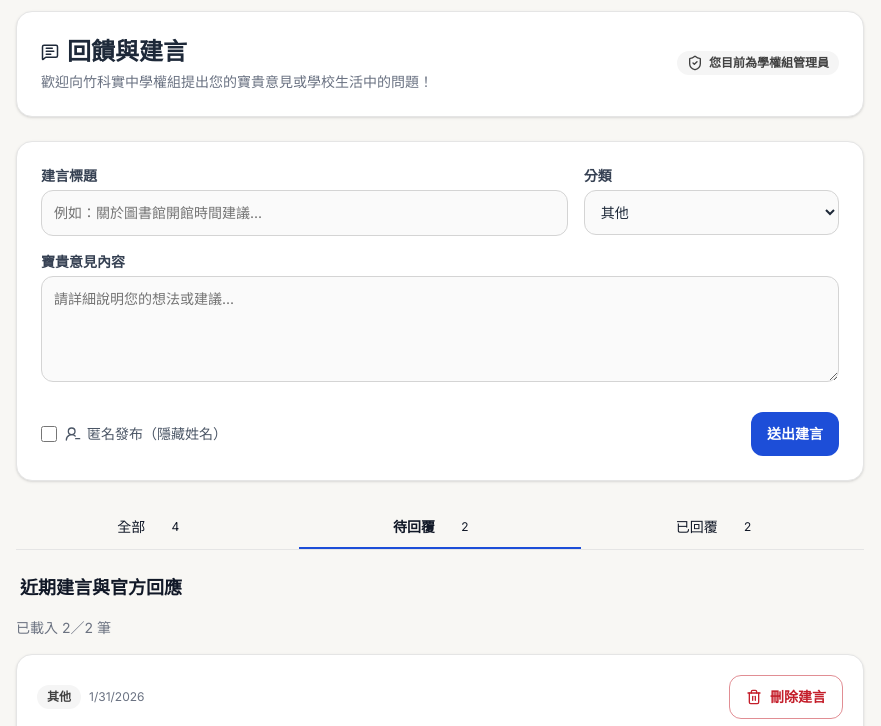
keeps management controls admin-only when isAdmin=true across tabs
The width and height of the screenshot is (881, 726).
Expected: the tab "全部 4" is shown, top-left (16, 505), bottom-right (299, 549)
Click the tab "已回覆 2". click: (697, 526)
box: top-left (581, 505), bottom-right (864, 549)
(page scrolled)
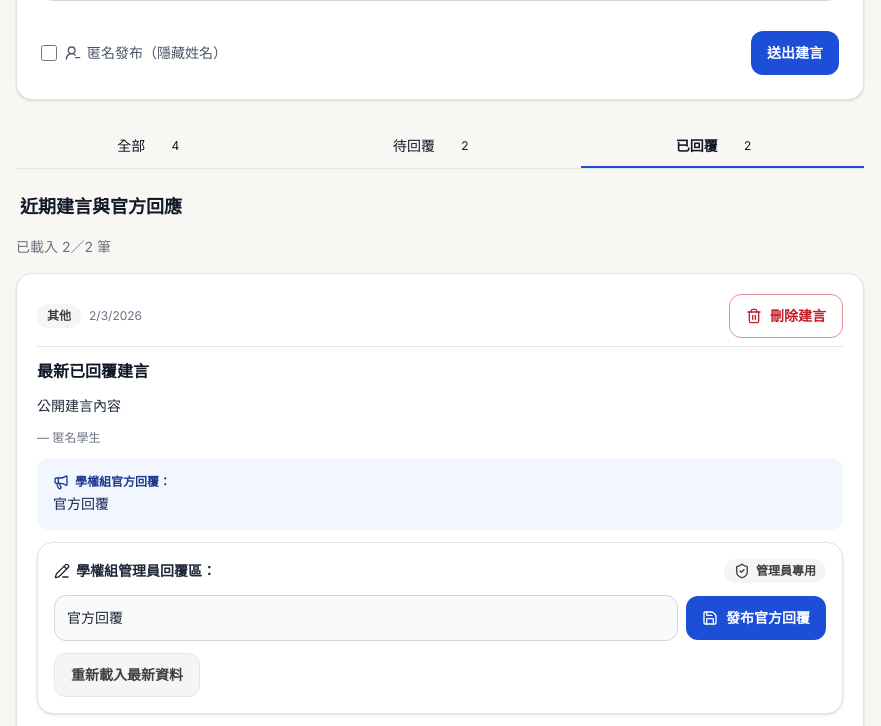
Expected: the heading "最新已回覆建言" is shown, top-left (37, 361), bottom-right (149, 381)
